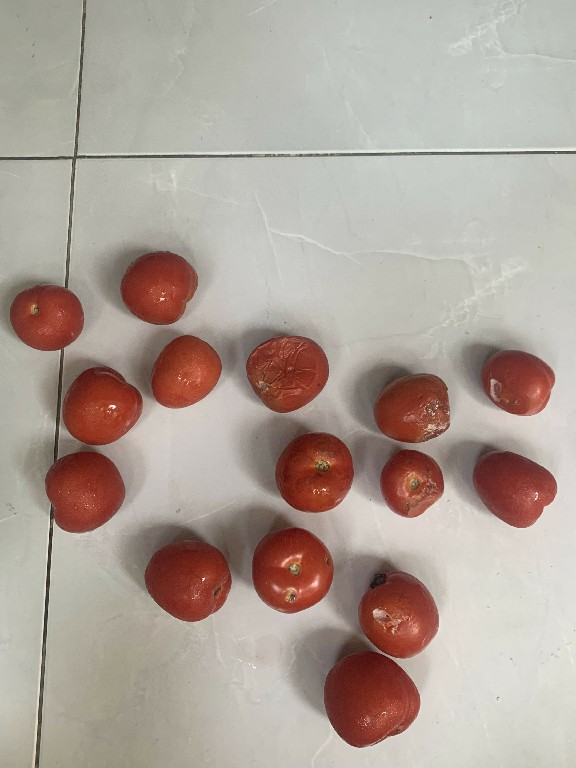NG: (353, 560, 443, 664), (246, 521, 340, 618), (237, 331, 333, 412), (271, 430, 358, 515), (471, 339, 558, 419), (366, 366, 452, 445), (374, 442, 448, 523)
OK: (316, 644, 421, 751), (134, 532, 235, 625), (465, 445, 569, 532), (52, 362, 145, 452), (38, 447, 131, 536), (2, 276, 93, 358), (116, 243, 204, 326), (145, 326, 224, 414)
